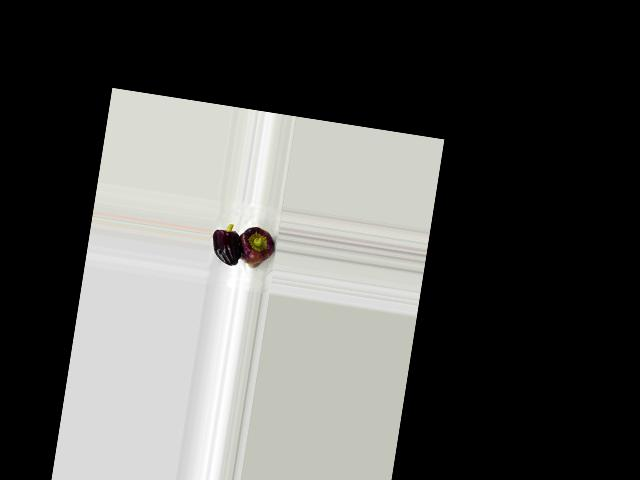bell_pepper: (233, 216, 279, 278)
